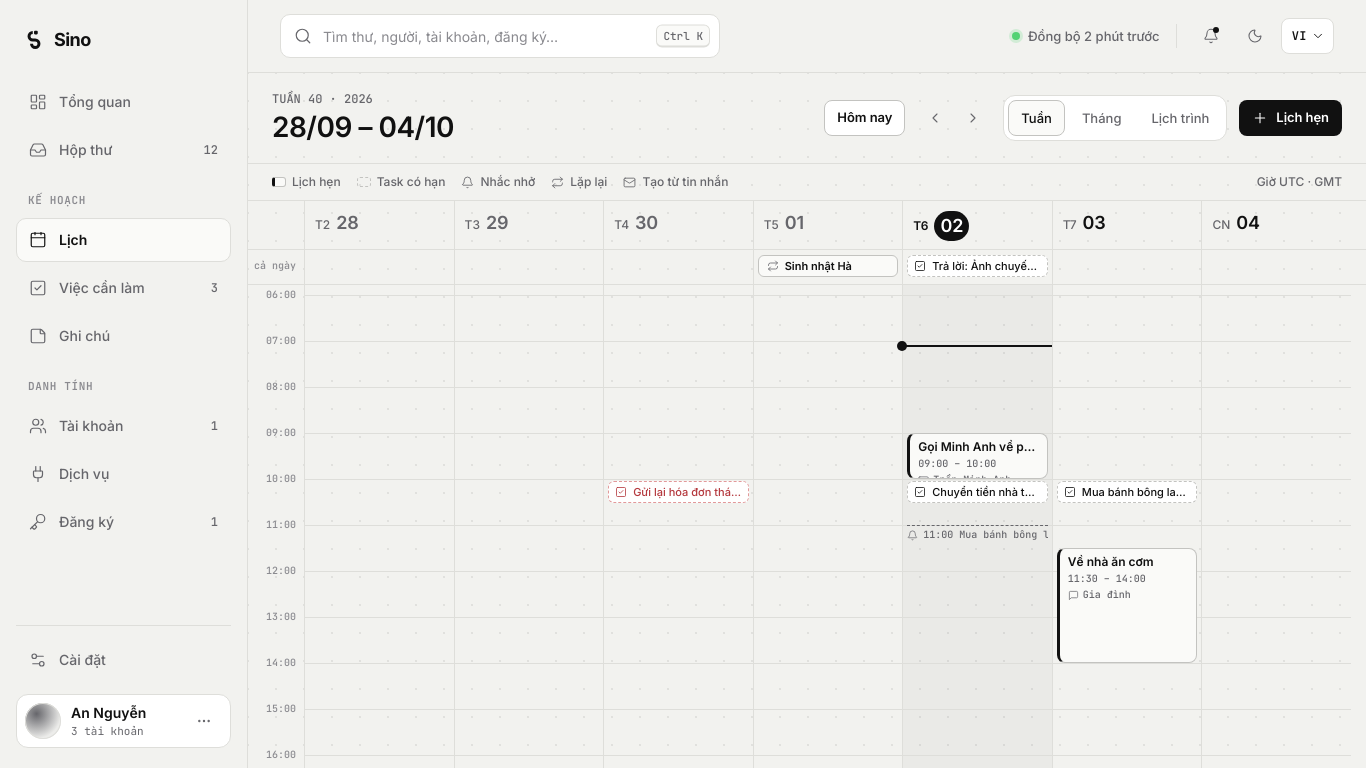
Test case: Lịch on desktop › moves to the next week and back to today, keeping it in the address
(page scrolled)
Check: the heading "28/09 – 04/10" is shown, box [272, 109, 454, 145]
Click the button named "Khoảng sau" at [973, 118], box [955, 100, 991, 136]
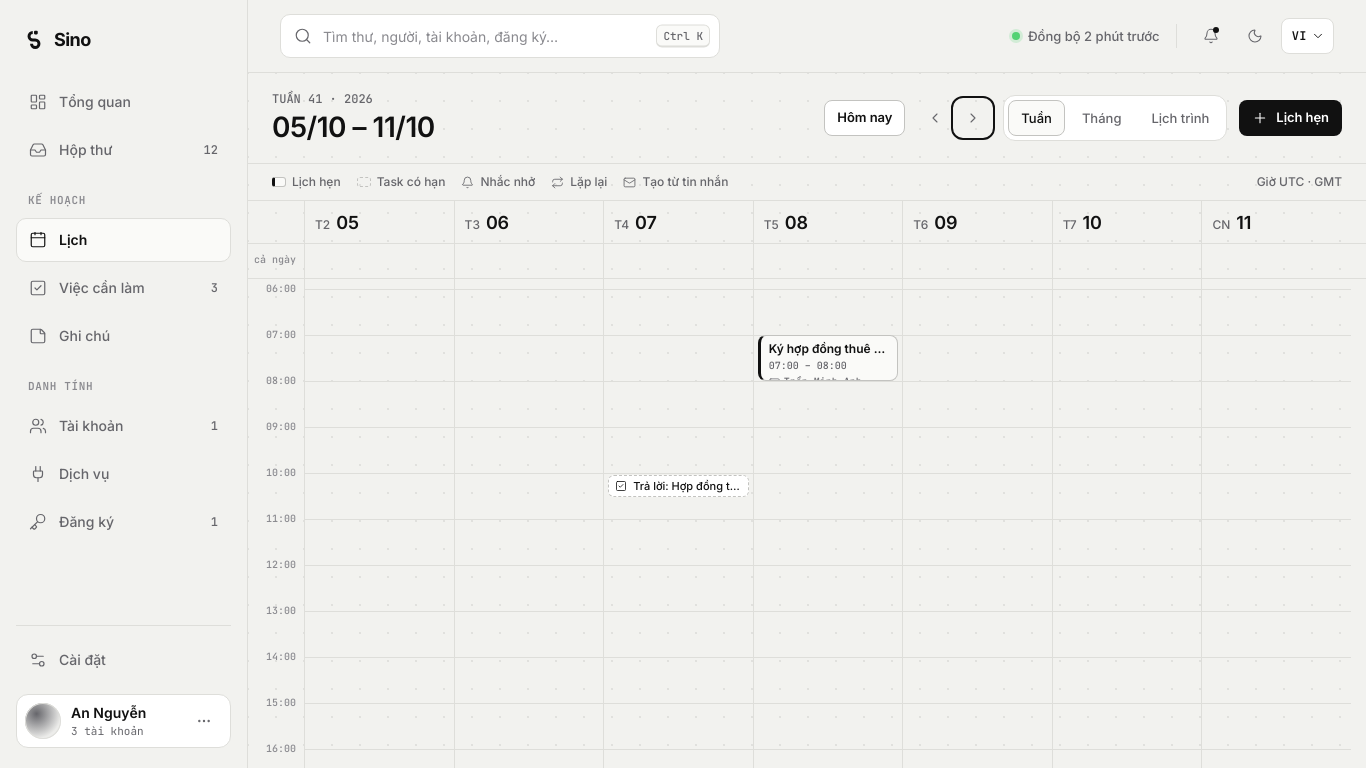
Check: the heading "05/10 – 11/10" is shown, box [272, 109, 435, 145]
Check: the text "TUẦN 41 · 2026" is shown, box [272, 91, 373, 107]
Click the button named "Khoảng trước" at [935, 118], box [917, 100, 953, 136]
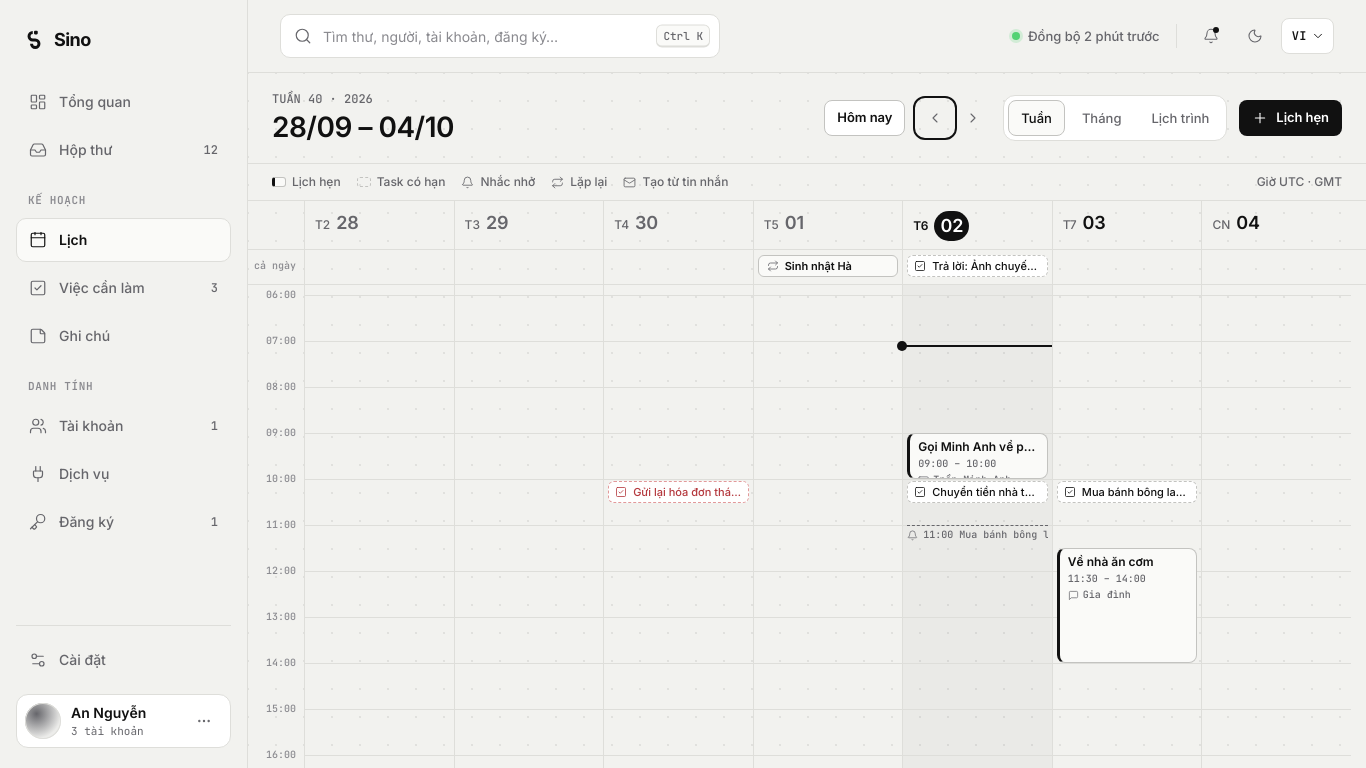
Click the button named "Khoảng trước" at [935, 118], box [917, 100, 953, 136]
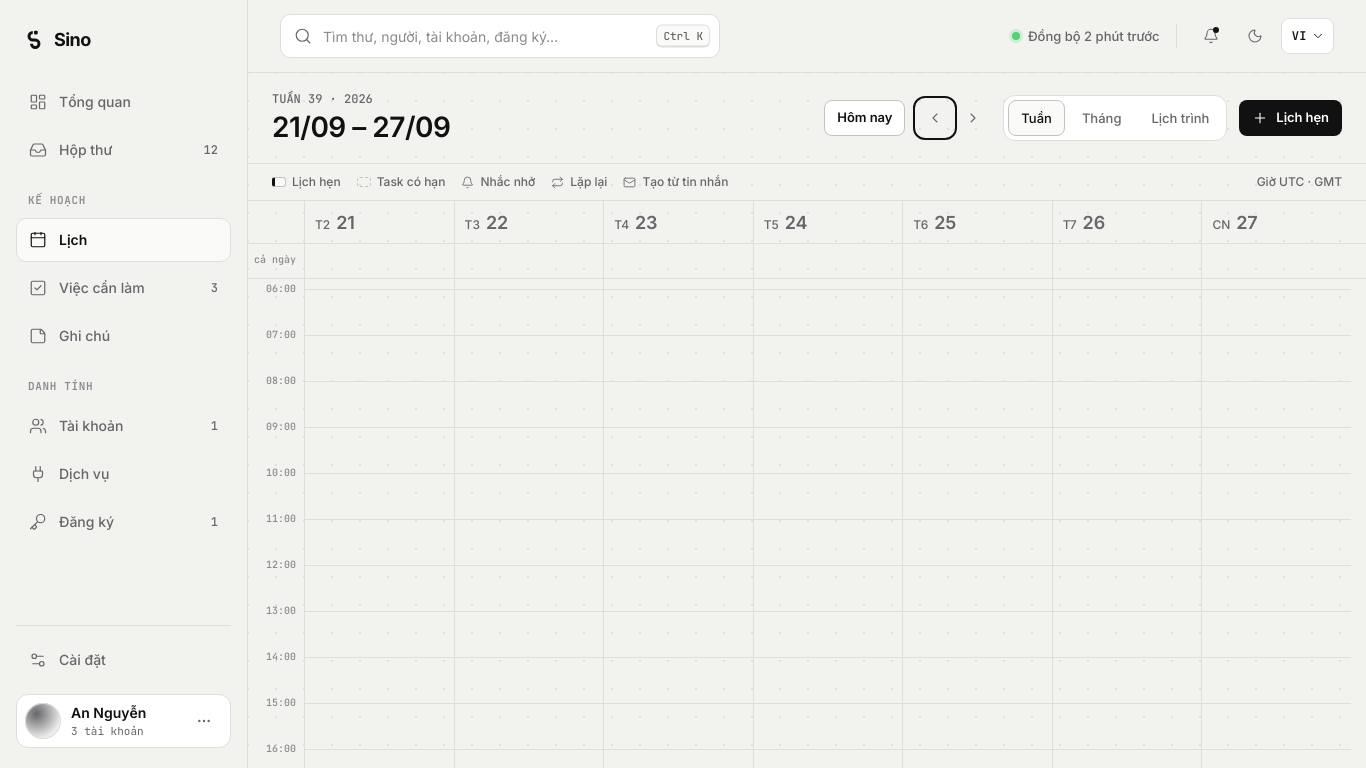
Click the button "Hôm nay" at [865, 118], box [824, 100, 905, 136]
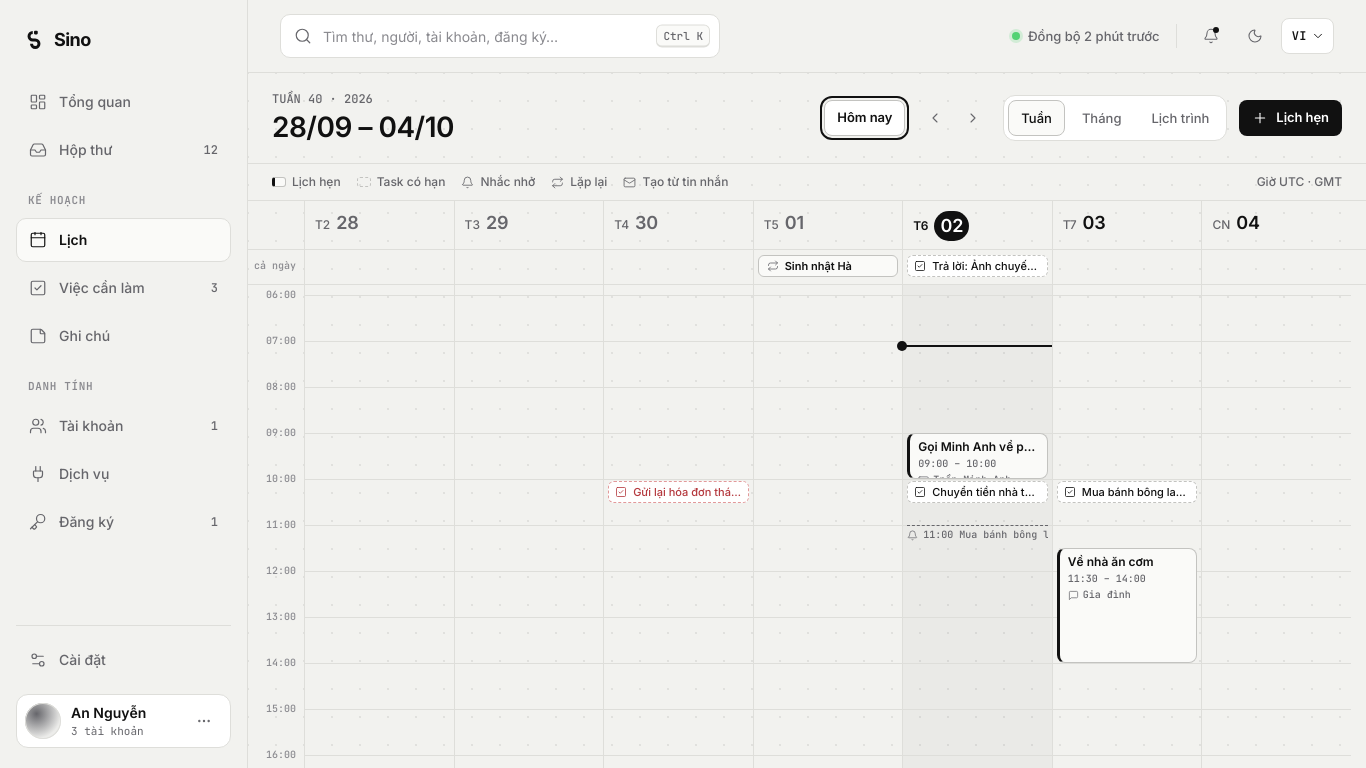
Click the button "Tháng" at [1102, 118], box [1069, 100, 1134, 136]
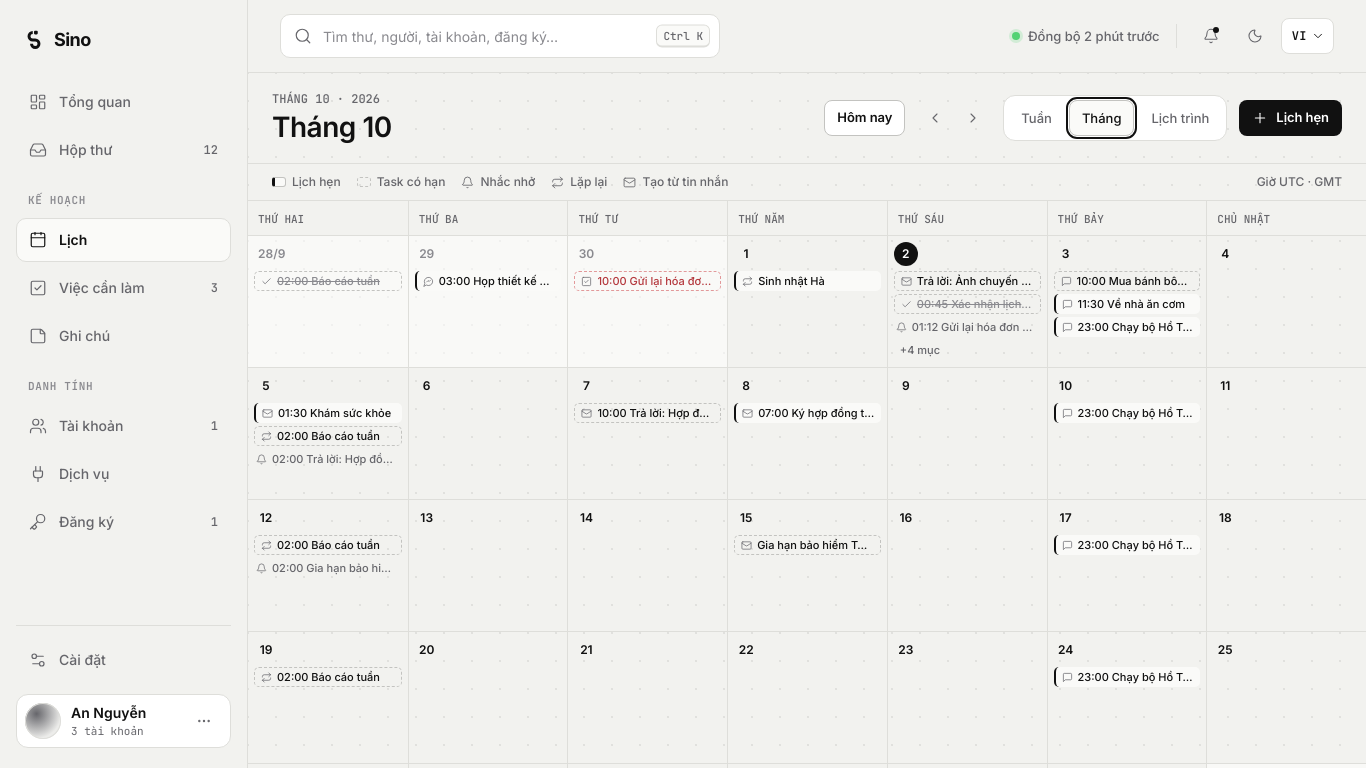
Check: the text "THÁNG 10 · 2026" is shown, box [272, 91, 392, 107]
